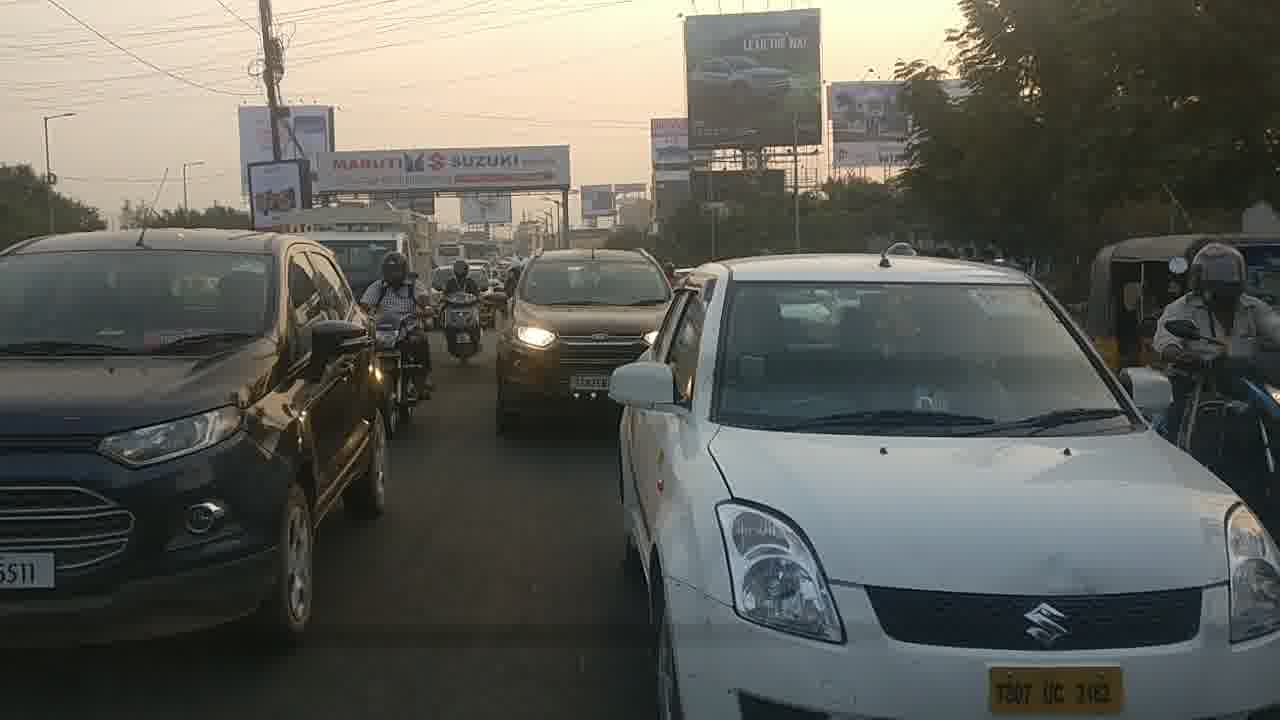swift desire: (624, 252, 1280, 717)
